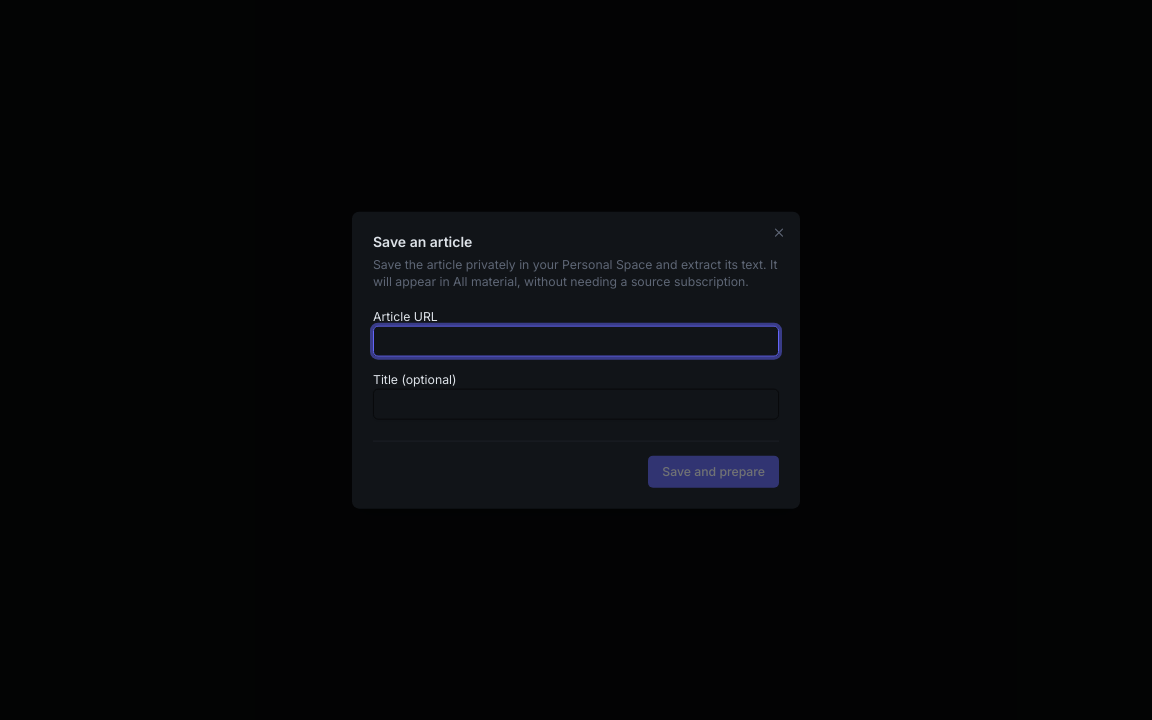
Test: keeps the saved link and shows why preparation was refused
The width and height of the screenshot is (1152, 720).
Type "https://example.test/a" into the field labelled "Article URL" at (576, 341), box [373,325,779,357]
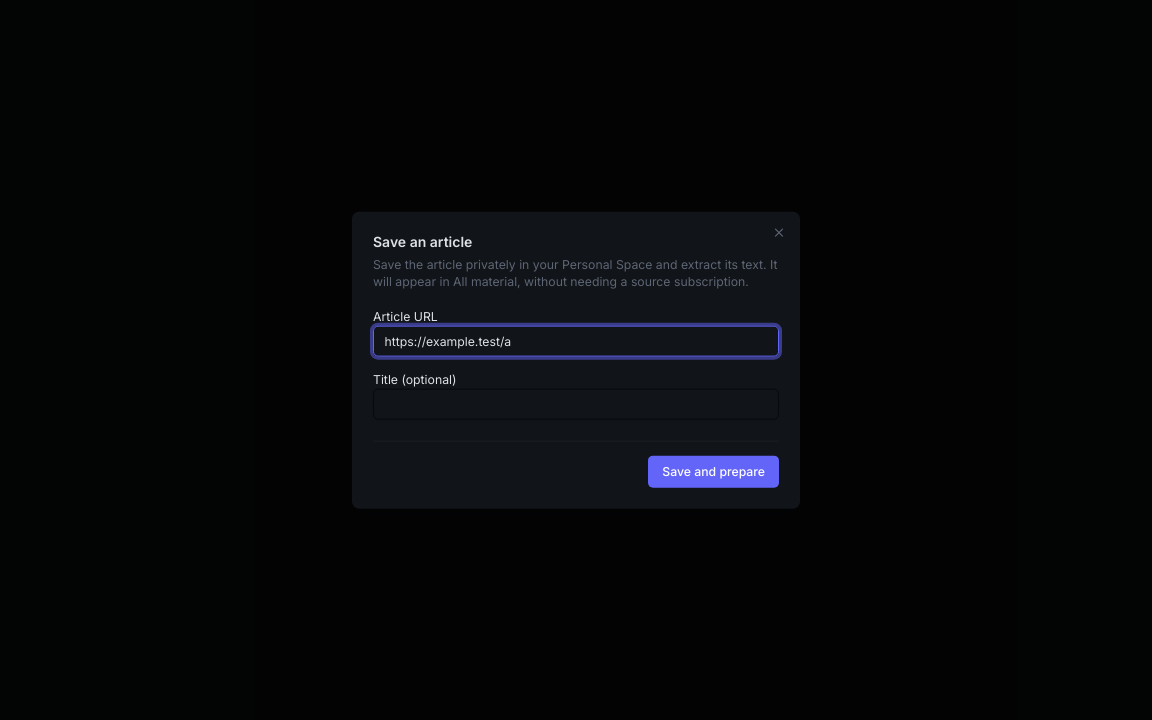
Click the button "Save and prepare" at (714, 472), box [648,456,779,487]
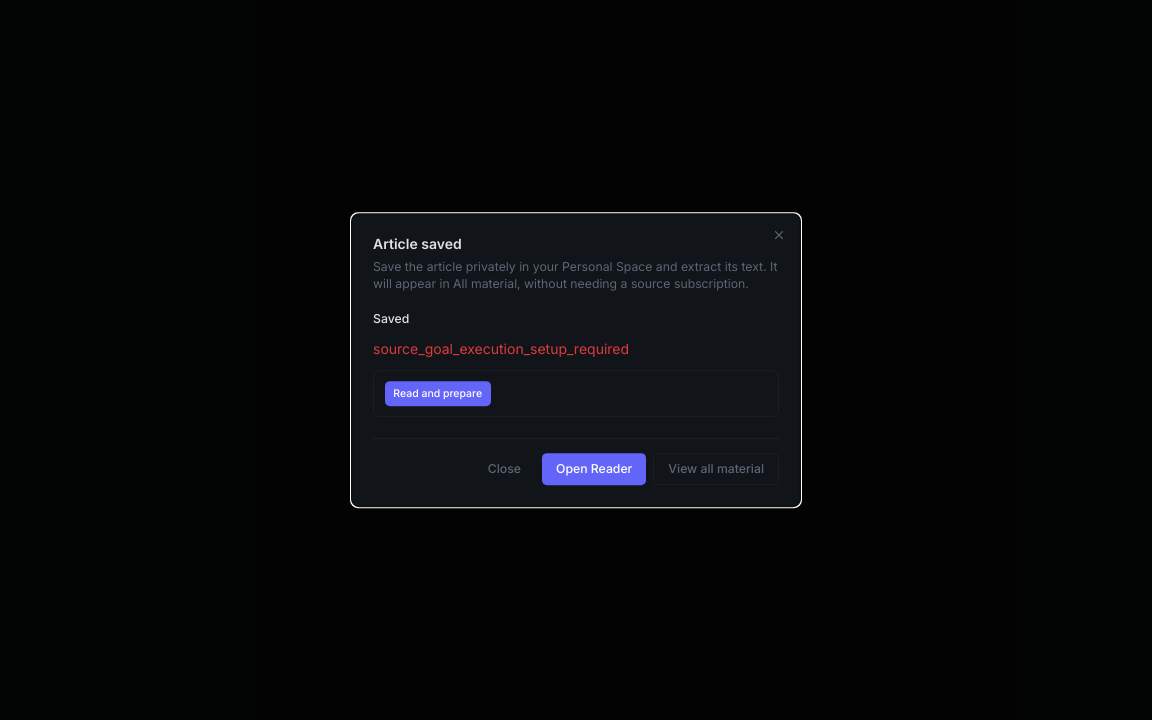
Check: the text "Saved" is shown, box [373,311,409,326]
Check: the message reads "source_goal_execution_setup_required", box [373,340,629,357]
